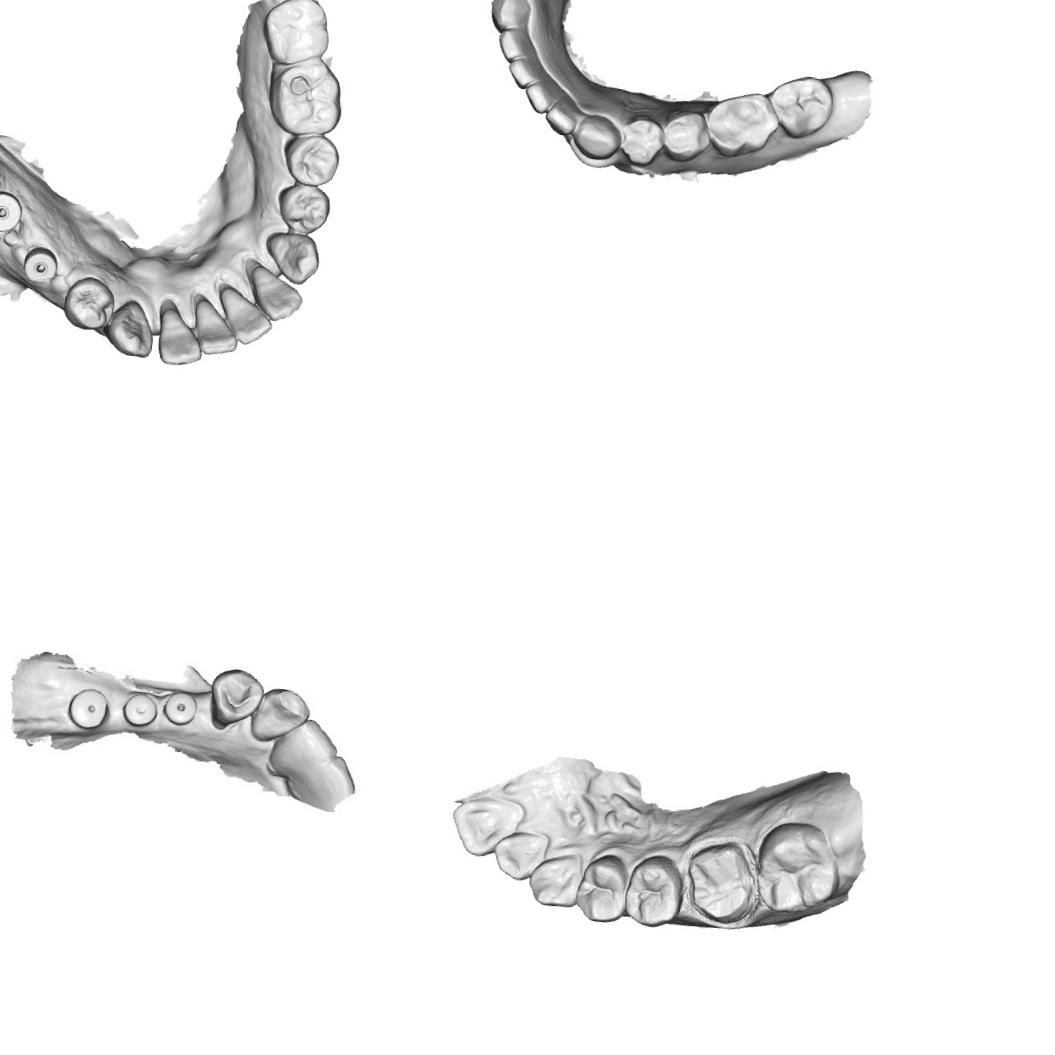canine: (247, 681, 315, 752), (261, 229, 327, 287), (526, 848, 586, 910), (105, 297, 158, 359), (570, 110, 625, 163), (486, 0, 533, 34)
crown: (676, 832, 764, 928)
implant: (68, 684, 112, 734), (119, 690, 164, 734), (21, 244, 60, 285), (0, 187, 25, 235), (162, 691, 194, 726)
incisor: (267, 708, 344, 786), (446, 792, 530, 862), (245, 264, 307, 324), (488, 826, 550, 884), (221, 288, 277, 348), (154, 306, 207, 369), (190, 298, 242, 358), (495, 24, 534, 64), (541, 100, 579, 138), (506, 56, 540, 91), (522, 80, 555, 116)
molar: (750, 816, 844, 918), (697, 85, 784, 165), (264, 58, 348, 140), (766, 70, 838, 144), (258, 0, 335, 69)
premolar: (620, 850, 689, 930), (571, 848, 633, 926), (60, 272, 118, 334), (280, 132, 342, 188), (209, 668, 258, 736), (274, 181, 333, 236), (660, 106, 714, 166), (616, 110, 667, 168)
